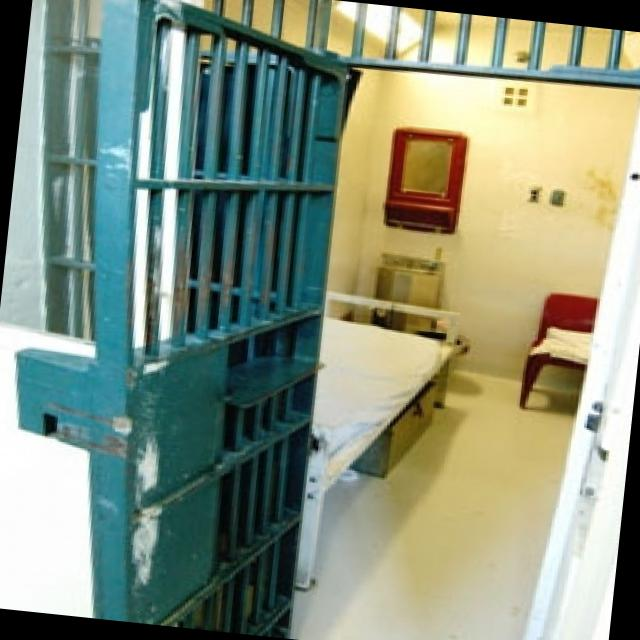bars: (180, 0, 640, 85), (1, 0, 95, 342)
berth: (303, 290, 459, 583)
box contants: (349, 384, 435, 473)
chair part: (514, 292, 594, 404)
door cabinet: (12, 0, 345, 635)
floor -X: (295, 362, 574, 640), (0, 321, 96, 613)
mirror crop: (383, 123, 464, 233)
wall clock: (356, 65, 640, 389), (516, 106, 640, 640), (321, 58, 372, 361)
